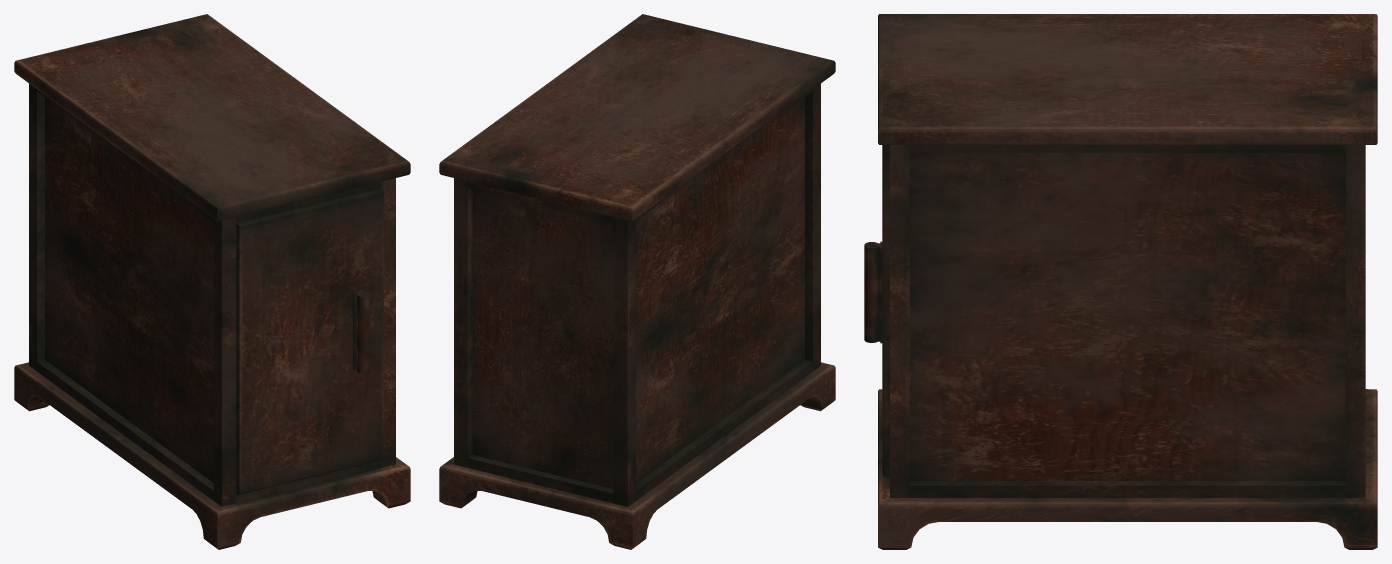
The model's file is shrine_desk_03.fbx.
3 renders of one model, left to right at view 1: azimuth 30°, elevation 25°; view 2: azimuth 150°, elevation 25°; view 3: azimuth 270°, elevation 25°, orthographic. The views are drawn at different scales.
Visible parts, largest first — view 1: shrine_desk_03; view 2: shrine_desk_03; view 3: shrine_desk_03.
Part boxes in pixels (x1=…): shrine_desk_03: x1=14, y1=14, x2=410, y2=549; shrine_desk_03: x1=439, y1=14, x2=835, y2=549; shrine_desk_03: x1=864, y1=14, x2=1377, y2=549.
Bounding box in the file's own units: 72.06 × 122 × 135.
1 material, 1 textured.
